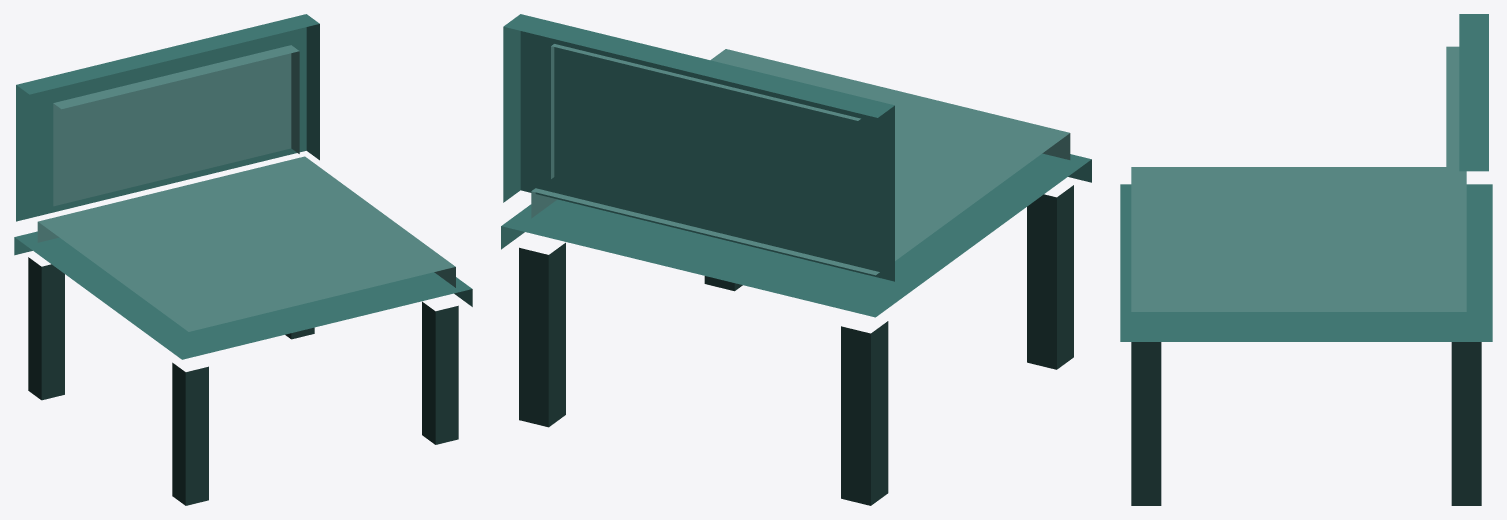
File: Chair-teal.glb
The picture shows the model from 3 angles, left to right: view 1: azimuth 30°, elevation 25°; view 2: azimuth 150°, elevation 25°; view 3: azimuth 270°, elevation 25°; orthographic projection. The views are drawn at different scales.
Parts seen in each view (by area): view 1: Chair; view 2: Chair; view 3: Chair.
Boxes of the visible parts, x1,y1,x2,y2 form: Chair: [14, 14, 472, 505]; Chair: [501, 14, 1091, 505]; Chair: [1120, 14, 1492, 505].
Bounding box in the file's own units: 1 × 1 × 1.
